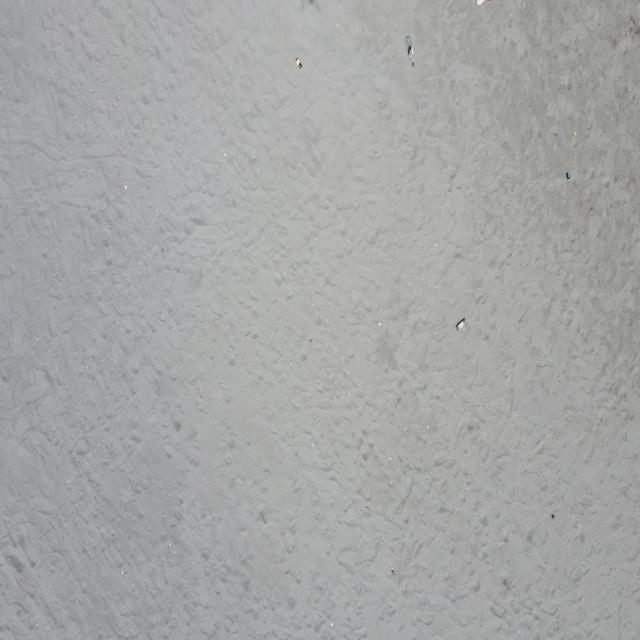glass: (405, 36, 415, 68), (456, 318, 467, 331), (474, 0, 492, 6), (295, 59, 302, 72), (566, 171, 572, 183)
